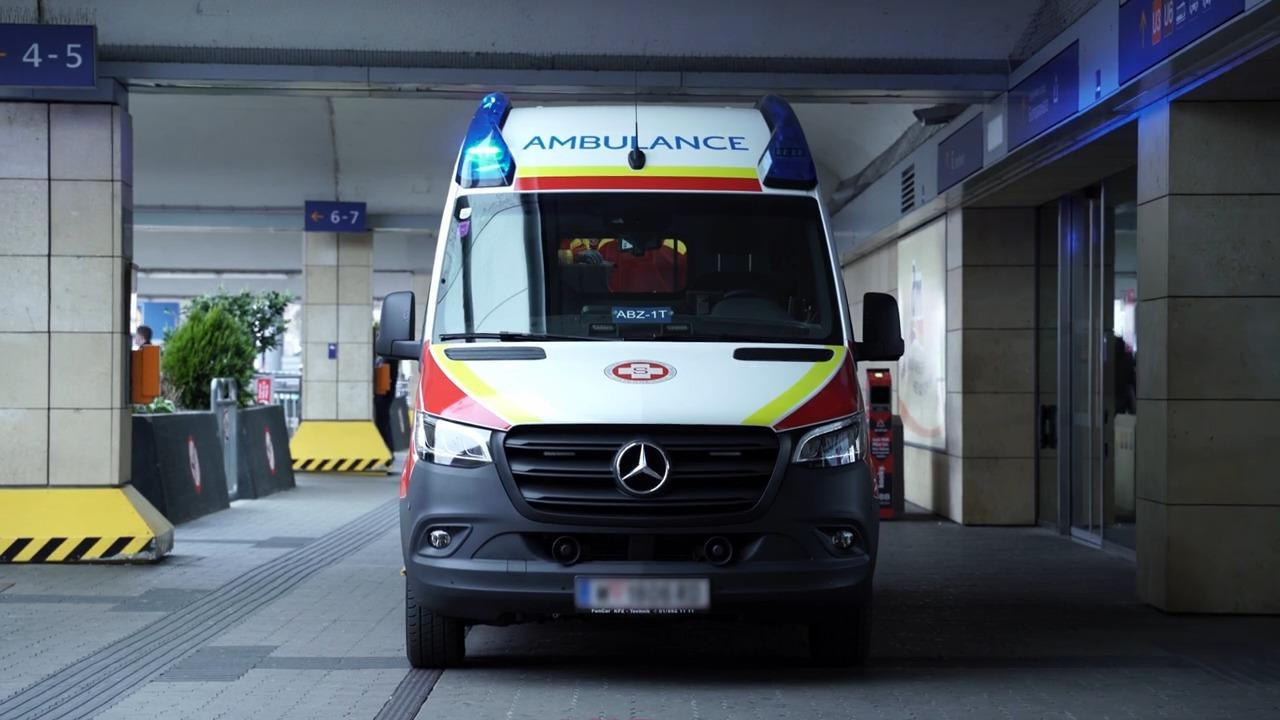car: (377, 88, 899, 671)
